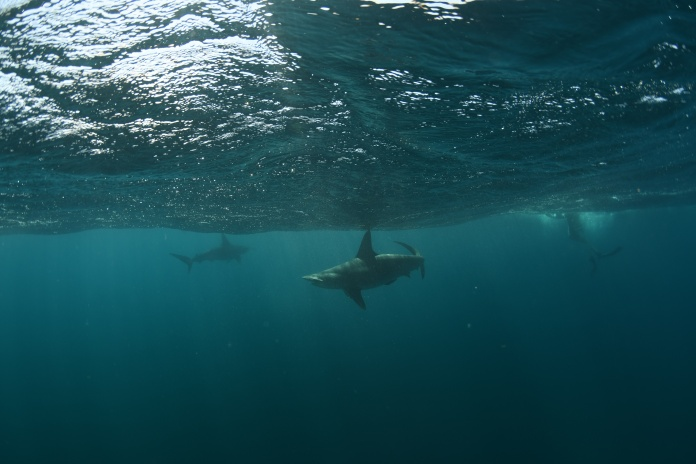Hammer: (278, 210, 449, 329)
